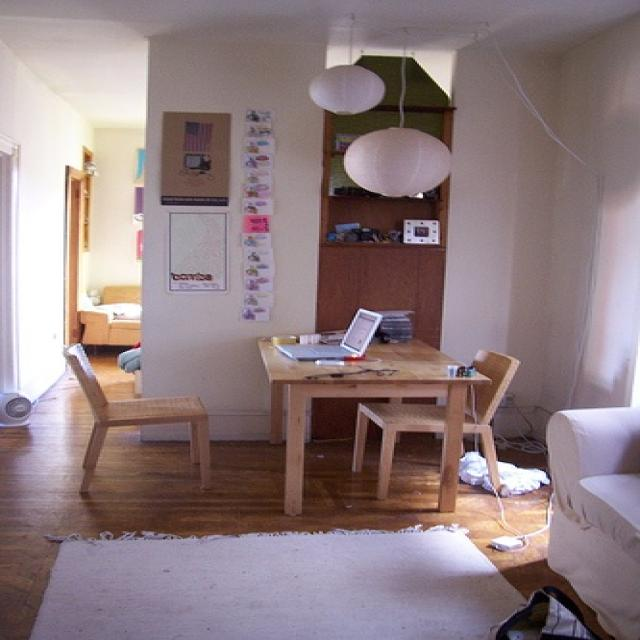chair: (351, 351, 522, 501), (65, 344, 215, 495)
diningtable: (259, 337, 491, 516)
sofa: (545, 404, 639, 640), (78, 287, 143, 355)
